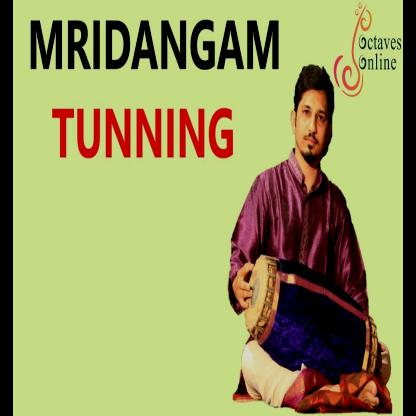Mridangam: (241, 245, 382, 389)
